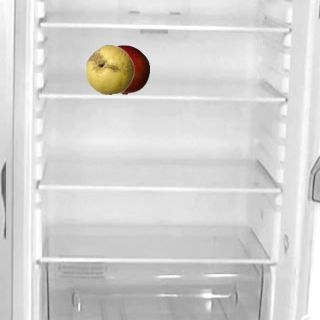Apple Braeburn: (99, 44, 149, 94)
Apple Golden 1: (84, 44, 134, 94)
